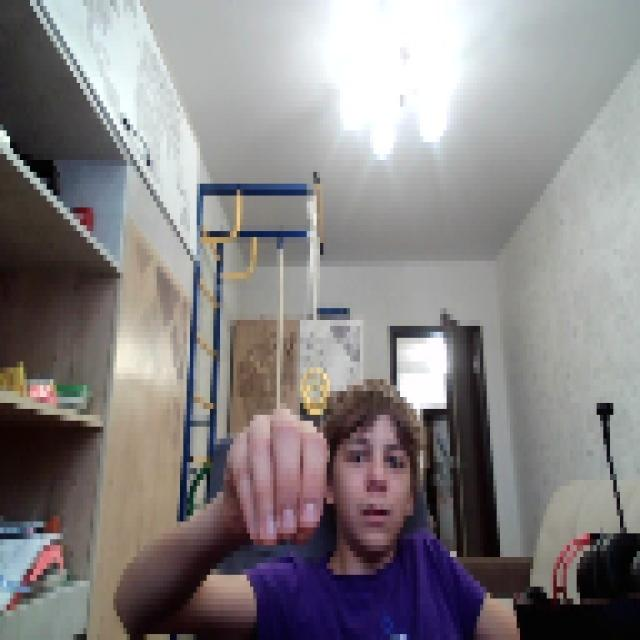left_click: (223, 397, 327, 545)
